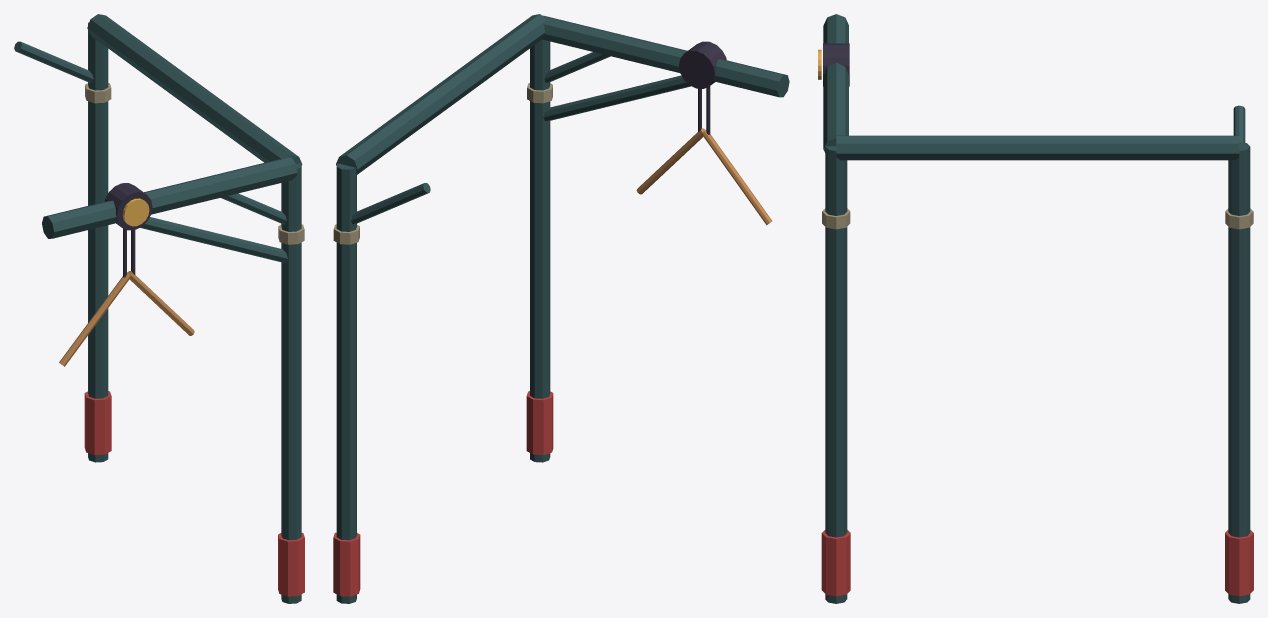
The model's file is ServiceDavit.gltf.
3 views of the same model, side by side, from view 1: azimuth 30°, elevation 25°; view 2: azimuth 150°, elevation 25°; view 3: azimuth 270°, elevation 25° (orthographic). The views are drawn at different scales.
Parts seen in each view (by area): view 1: ServiceDavit; view 2: ServiceDavit; view 3: ServiceDavit.
Part boxes in pixels (box(x1,y1,x2,y2)): ServiceDavit: box(14, 14, 304, 603); ServiceDavit: box(333, 14, 789, 603); ServiceDavit: box(818, 14, 1253, 603).
Bounding box in the file's own units: 1.85 × 3.12 × 2.62.
